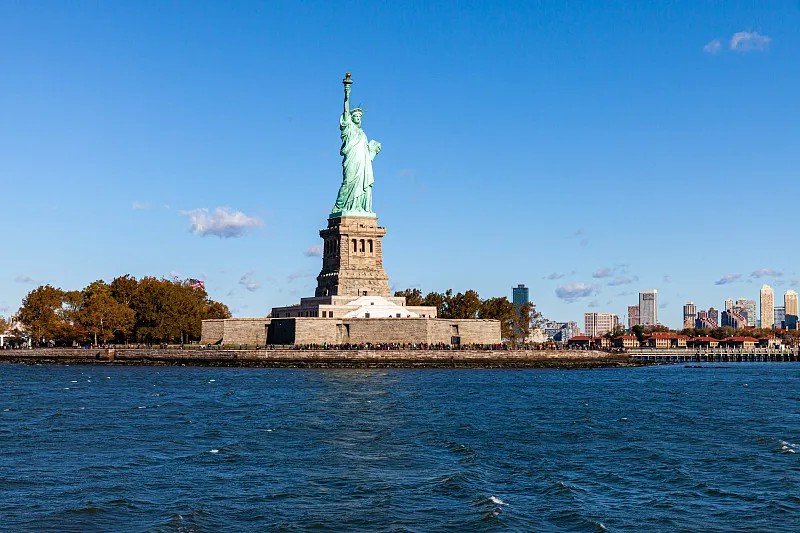SL: (313, 71, 392, 296)
